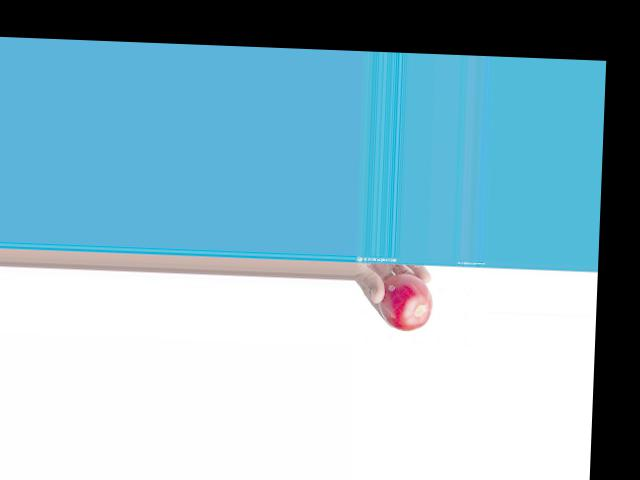tomato: (377, 272, 433, 331)
